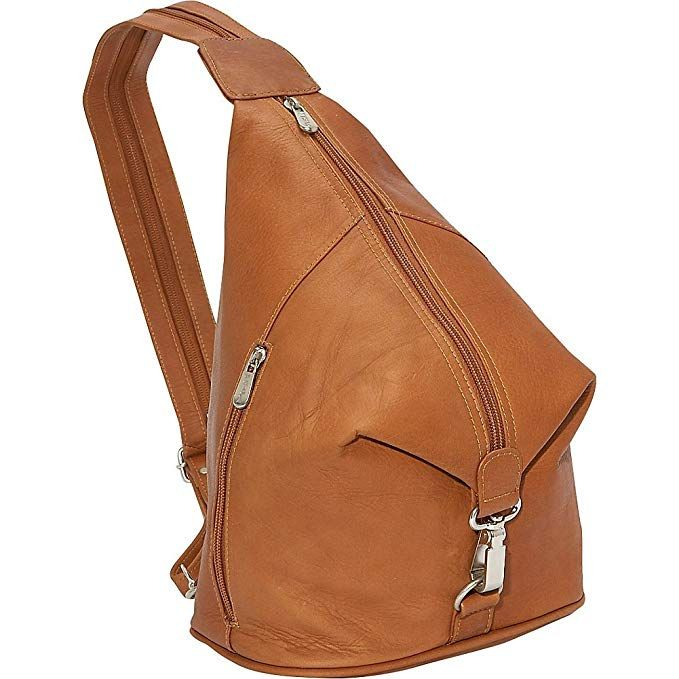cuero: (83, 1, 597, 678)
